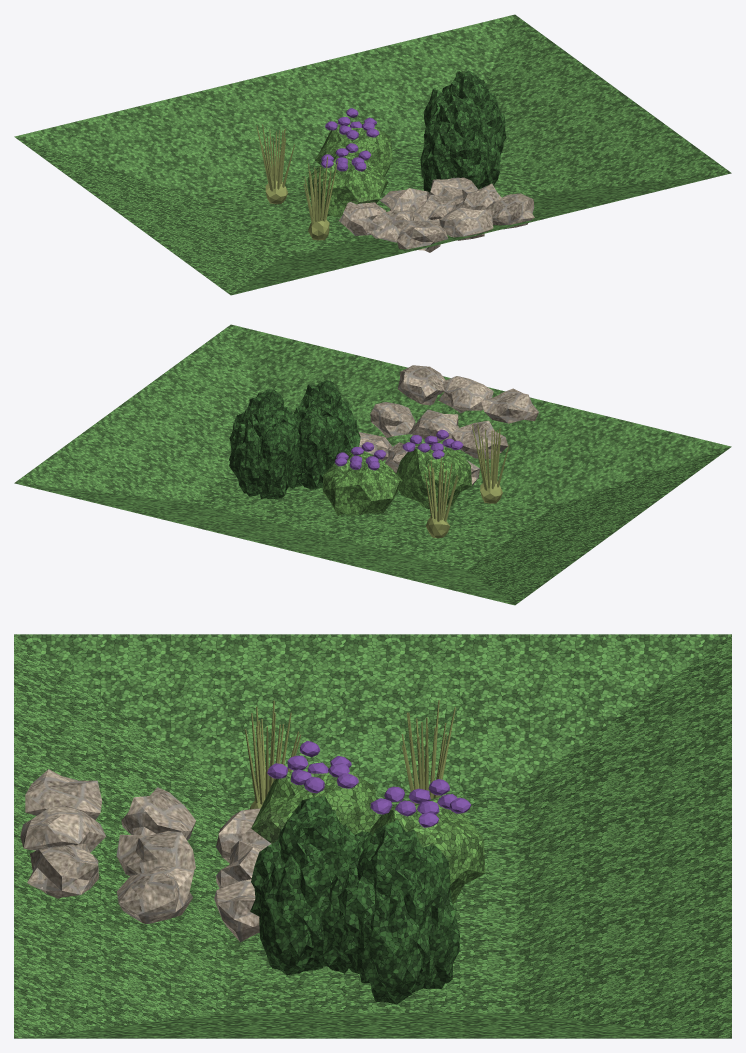
3 views of the same model, one above another, from view 1: azimuth 30°, elevation 25°; view 2: azimuth 150°, elevation 25°; view 3: azimuth 270°, elevation 25° (orthographic). The views are drawn at different scales.
Parts seen in each view (by area): view 1: water.rain_garden (×2), kisni-vrt-2 (×2), kisni-vrt-1 (×4), kisni-vrt-0 (×2); view 2: water.rain_garden (×2), kisni-vrt-2 (×2), kisni-vrt-1 (×4), kisni-vrt-0 (×2); view 3: water.rain_garden (×2), kisni-vrt-2 (×2), kisni-vrt-1 (×4), kisni-vrt-0 (×2).
Part boxes in pixels (x1,y1,x2,y2): water.rain_garden (×2): (14,14,731,295); kisni-vrt-2 (×2): (420,70,506,193); kisni-vrt-1 (×4): (307,108,392,216); kisni-vrt-0 (×2): (256,124,337,240); water.rain_garden (×2): (14,324,731,605); kisni-vrt-2 (×2): (229,380,360,499); kisni-vrt-1 (×4): (323,429,471,515); kisni-vrt-0 (×2): (425,423,509,538); water.rain_garden (×2): (14,634,731,1038); kisni-vrt-2 (×2): (250,796,459,1004); kisni-vrt-1 (×4): (251,741,485,904); kisni-vrt-0 (×2): (245,700,455,809).
Bounding box in the file's own units: 4 × 3 × 0.8219.
Materials: 6 (4 with a texture image).
